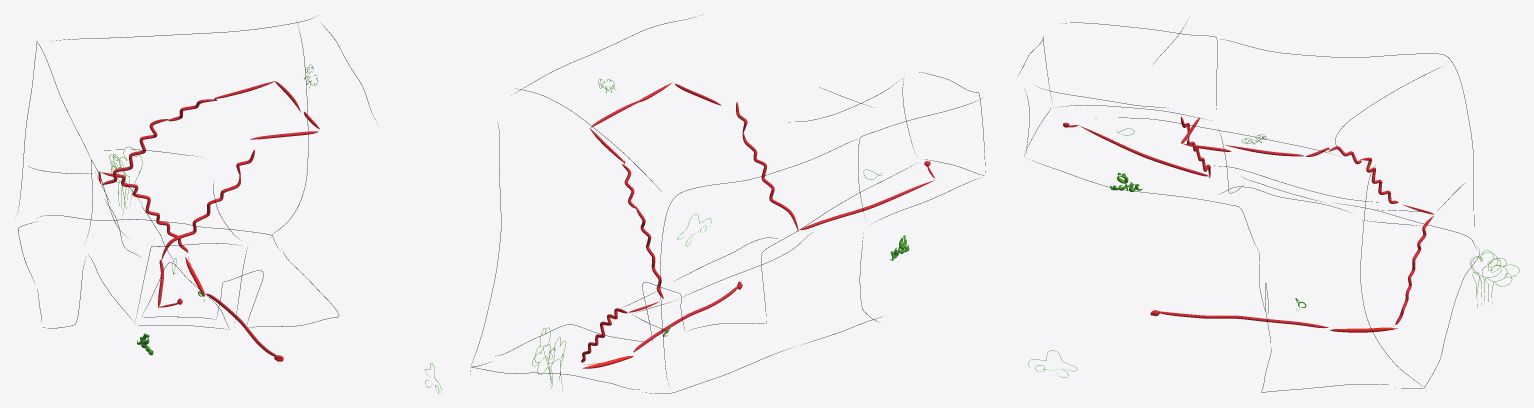
The picture shows the model from 3 angles, left to right: view 1: azimuth 30°, elevation 25°; view 2: azimuth 150°, elevation 25°; view 3: azimuth 270°, elevation 25°; orthographic projection. The views are drawn at different scales.
Visible parts, largest first — view 1: s.0020, s.0031, s.0022; view 2: s.0032, s.0019, s.0031; view 3: s.0019, s.0032.
Part boxes in pixels (x1,y1,x2,y2): s.0020: [101, 172, 188, 252]; s.0031: [161, 175, 240, 260]; s.0022: [102, 119, 169, 185]; s.0032: [800, 180, 934, 230]; s.0019: [633, 286, 738, 352]; s.0031: [742, 132, 798, 231]; s.0019: [1159, 311, 1328, 328]; s.0032: [1080, 126, 1208, 176].
Size of the model in its own units: 155 by 208 by 119.
